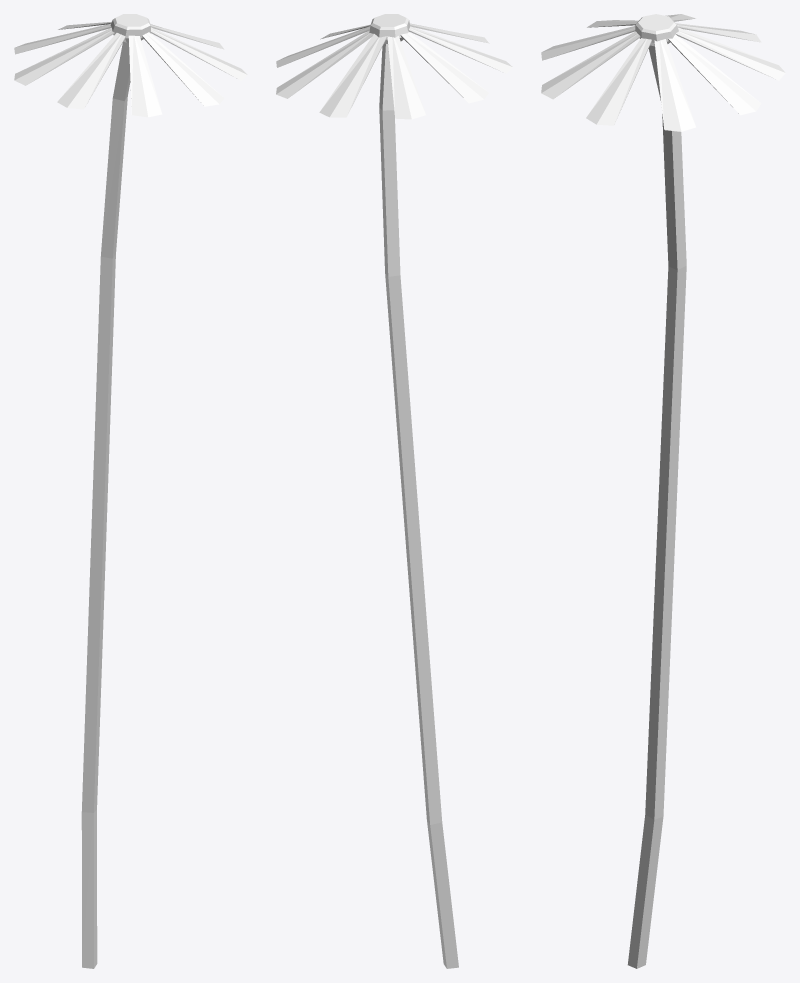
Rendered from Env_Flowers_07.glb.
The picture shows the model from 3 angles, left to right: view 1: azimuth 30°, elevation 25°; view 2: azimuth 150°, elevation 25°; view 3: azimuth 270°, elevation 25°; orthographic projection. The views are drawn at different scales.
Visible parts, largest first — view 1: Env_Flowers_07; view 2: Env_Flowers_07; view 3: Env_Flowers_07.
Boxes of the visible parts, x1,y1,x2,y2 form: Env_Flowers_07: (14,14,247,968); Env_Flowers_07: (276,14,512,968); Env_Flowers_07: (541,14,785,968).
Size of the model in its own units: 0.1193 by 0.5149 by 0.1177.
Materials: 1 (1 with a texture image).
